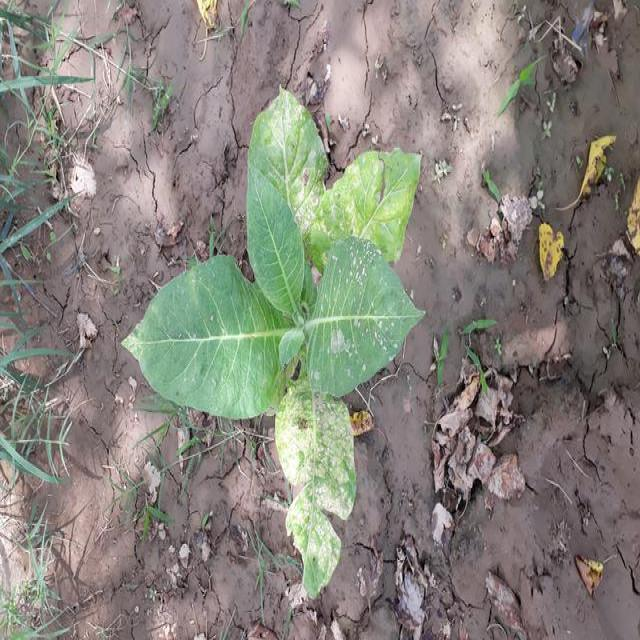crop: (125, 79, 427, 607)
